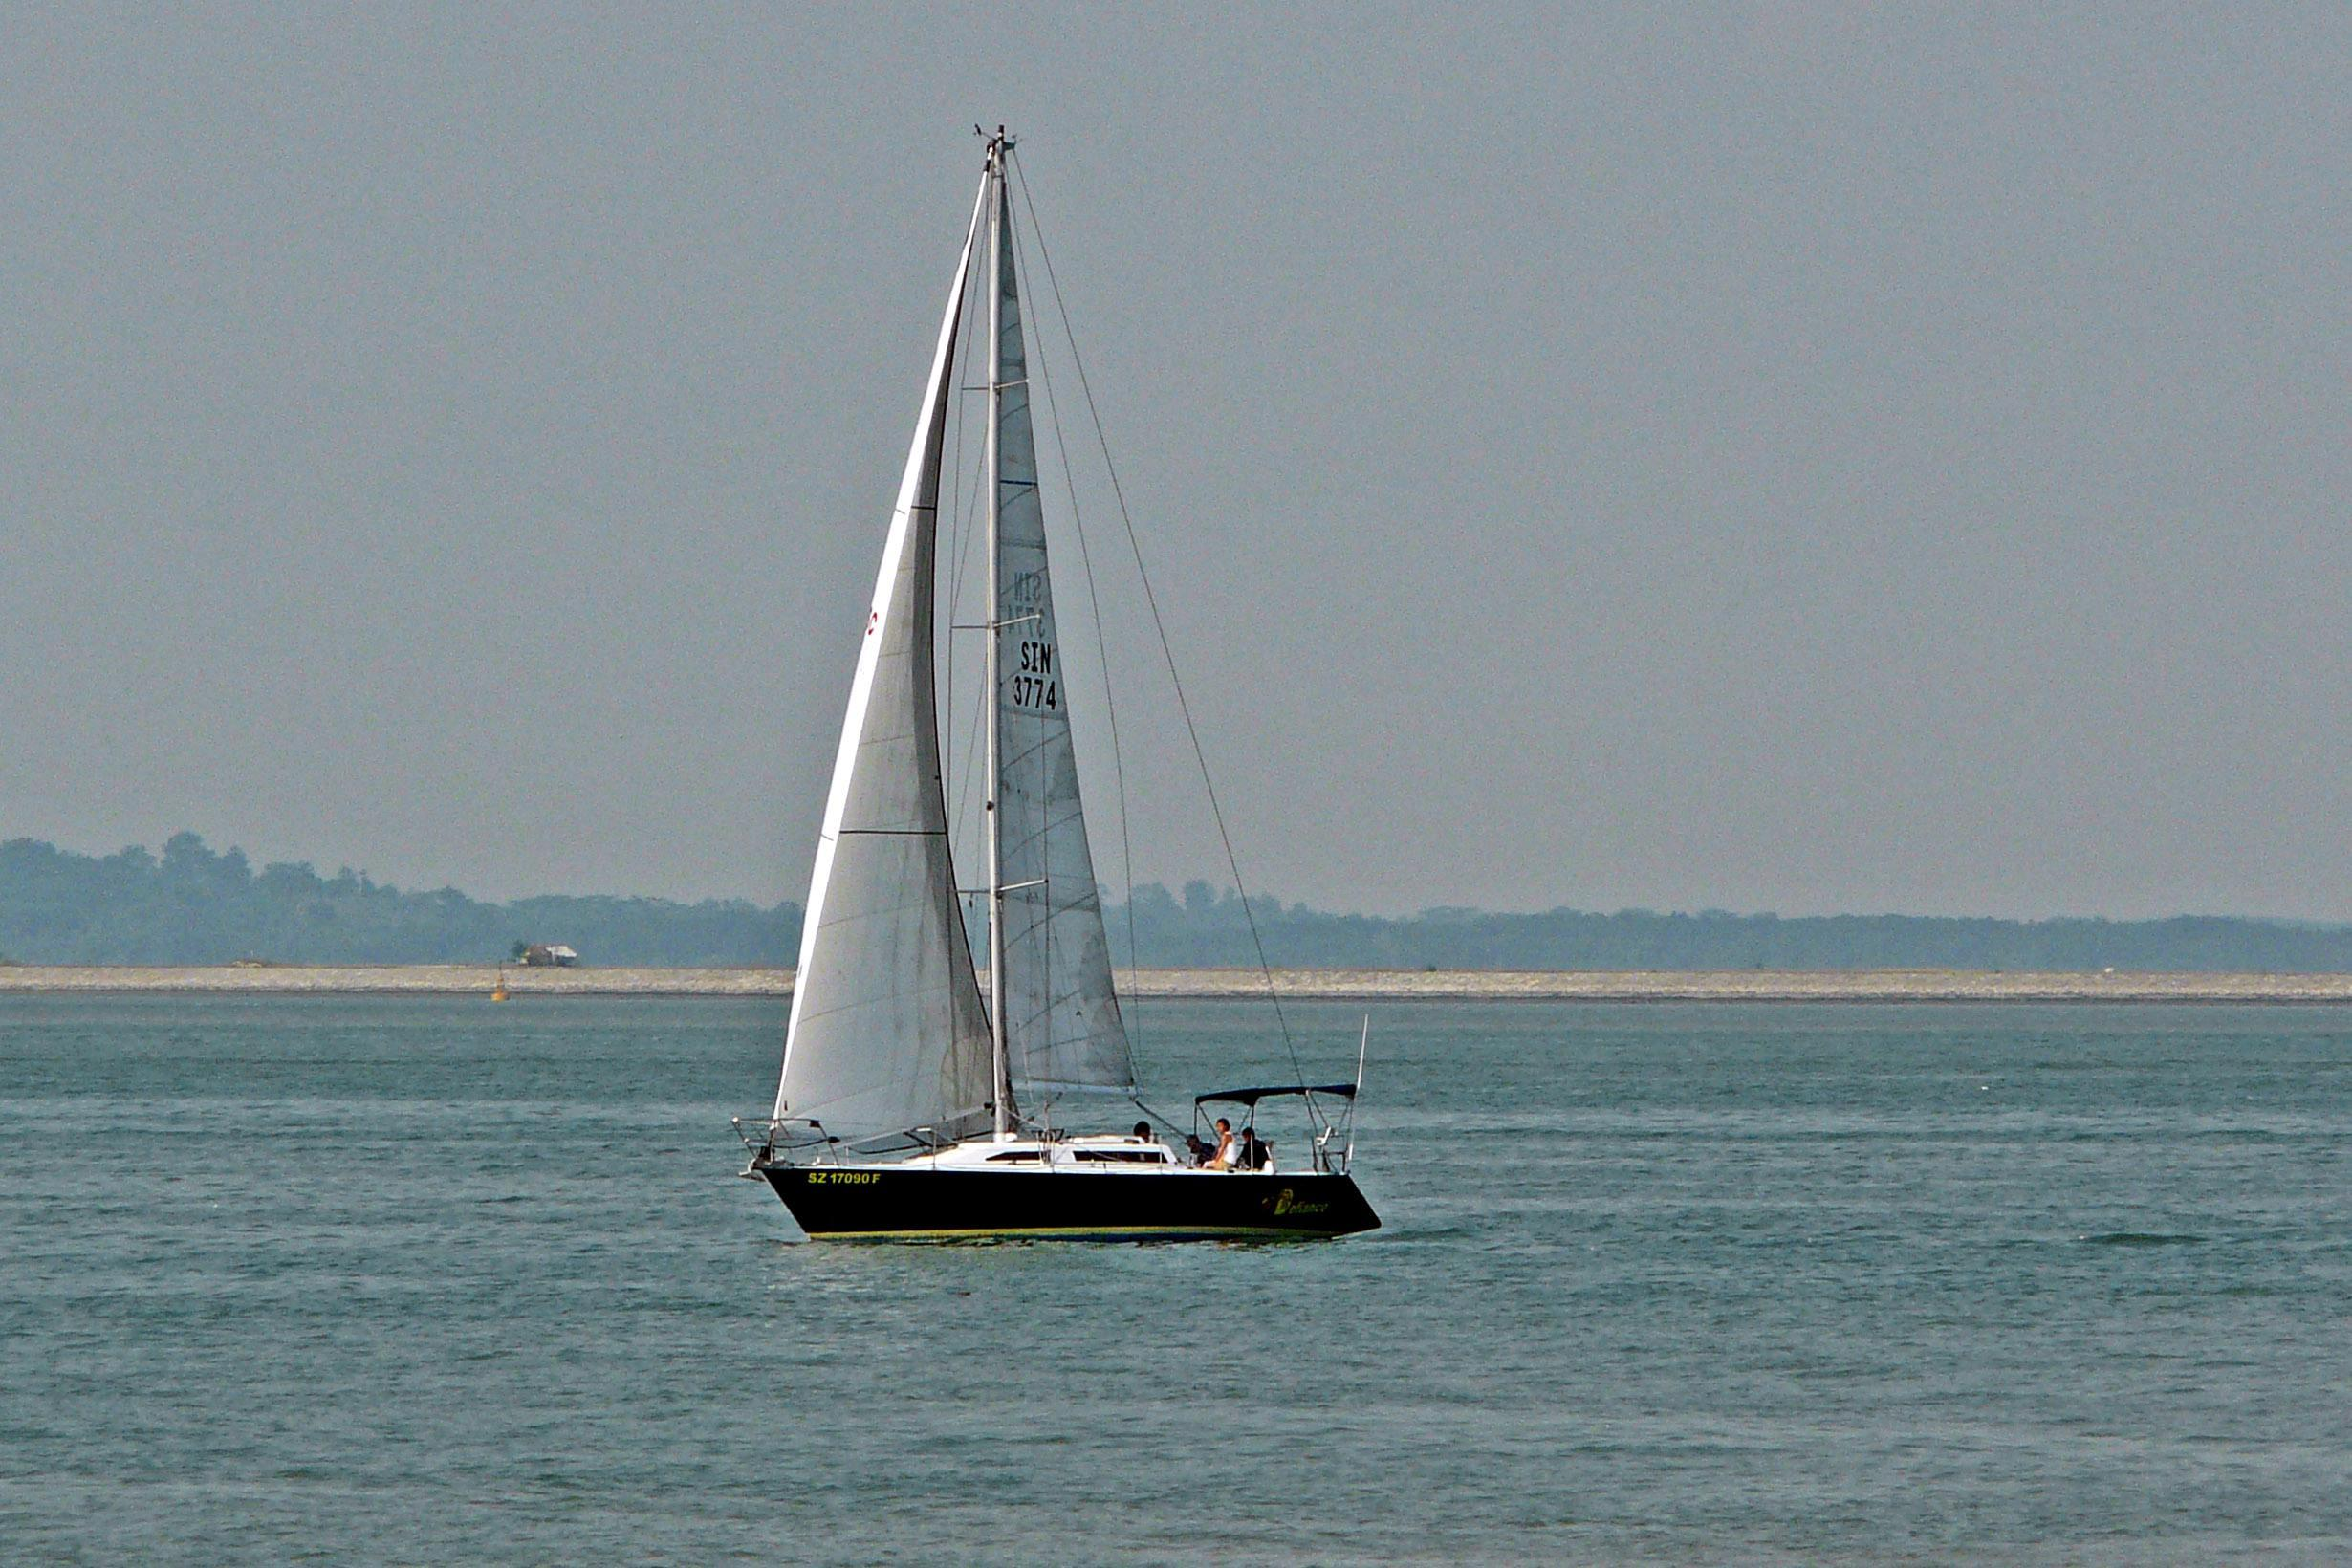fanchuan: (733, 108, 1388, 1258)
